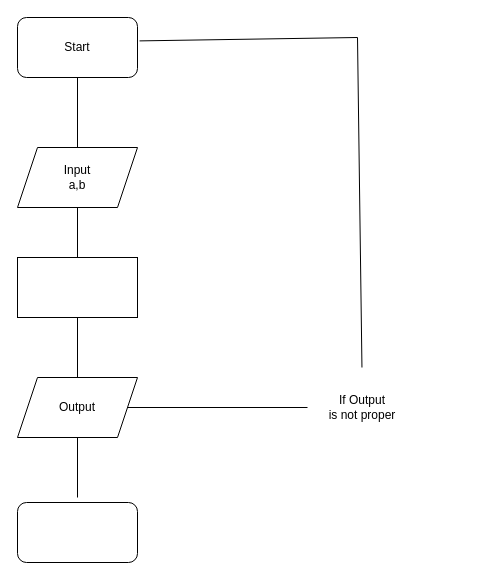
Image size: 485x580. Some labels were removed from this diagram. The shapes that lost their labels are listed below. From the top down, each one's centre as x and y in pixels, then its label:
At point (77, 287): "Process a+b".
At point (77, 532): "End".
